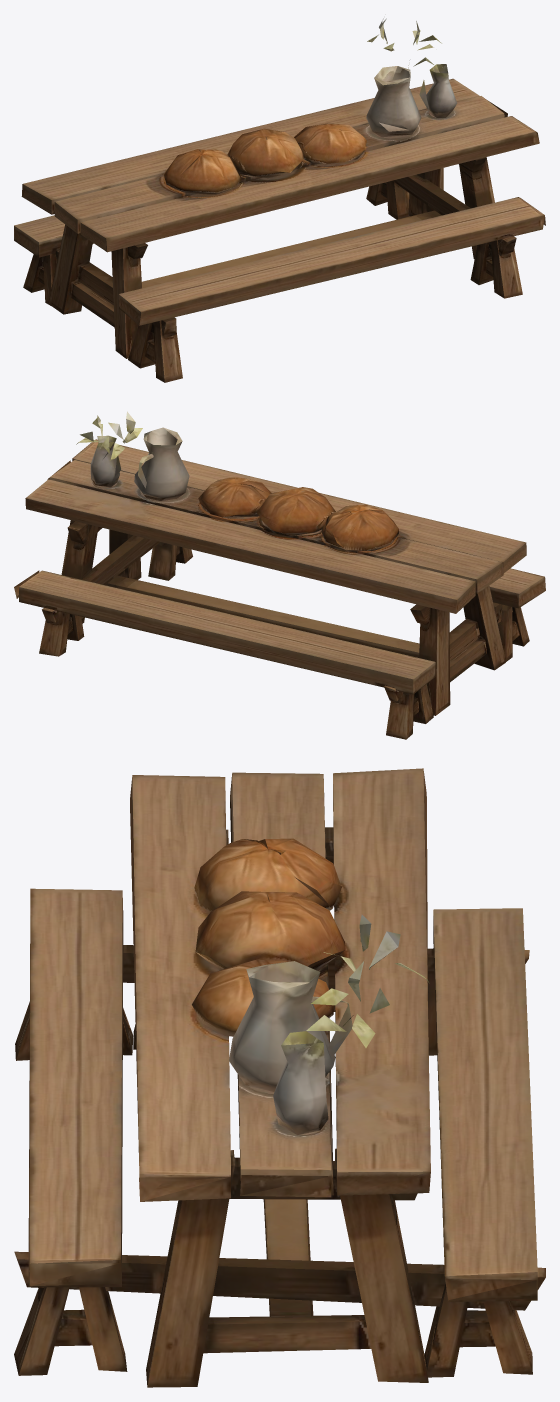
File: act1_kit_v1_refectory_table.glb
3 views of the same model, one above another, from view 1: azimuth 30°, elevation 25°; view 2: azimuth 150°, elevation 25°; view 3: azimuth 270°, elevation 25° (orthographic). The views are drawn at different scales.
Visible parts, largest first — view 1: A11_3_refectory_table; view 2: A11_3_refectory_table; view 3: A11_3_refectory_table.
Boxes of the visible parts, <box> form: A11_3_refectory_table: <box>14,18,545,382</box>; A11_3_refectory_table: <box>14,411,545,739</box>; A11_3_refectory_table: <box>14,768,545,1387</box>.
Size of the model in its own units: 0.9974 by 0.4775 by 0.5481.
1 material, 1 textured.
